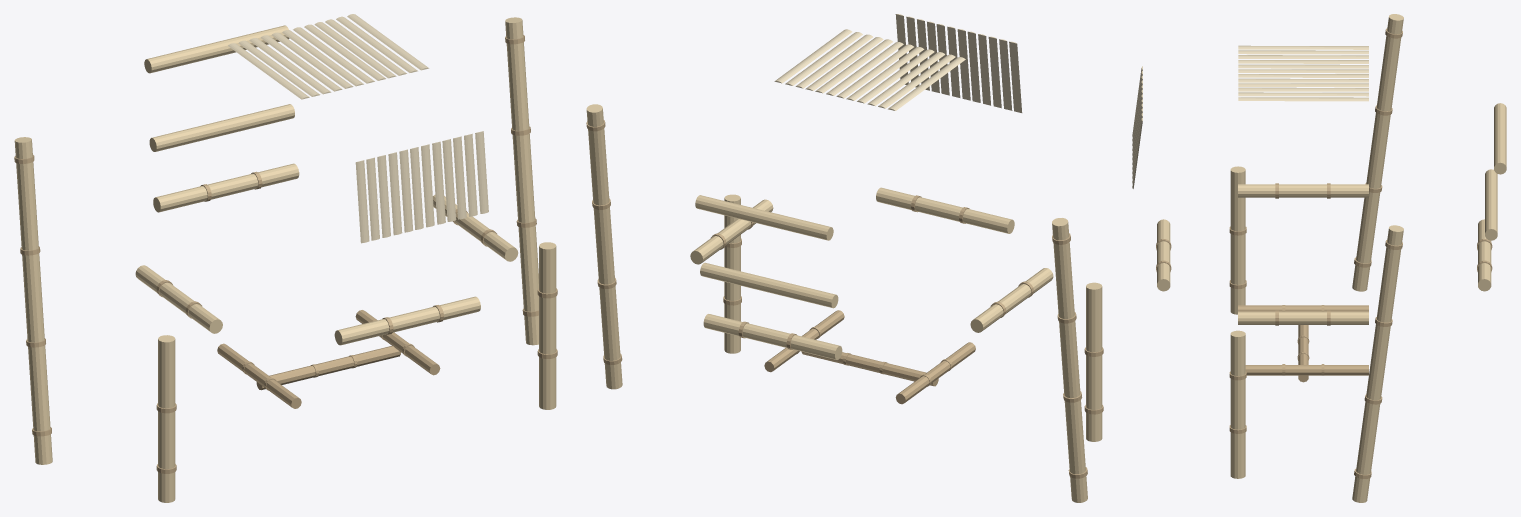
Rendered from silla.glb.
3 renders of one model, left to right at view 1: azimuth 30°, elevation 25°; view 2: azimuth 150°, elevation 25°; view 3: azimuth 270°, elevation 25°, orthographic. The views are drawn at different scales.
Parts seen in each view (by area): view 1: esterilla, esterilla.001, nudos.009, nudos.007, nudos, nudos.003, nudos.019, nudos.016, estructura.008, estructura.009, nudos.021, nudos.014 (+3 smaller); view 2: esterilla.001, esterilla, nudos.007, nudos.009, nudos, nudos.019, nudos.016, estructura.008, estructura.009, nudos.003, nudos.014, nudos.012 (+3 smaller); view 3: esterilla.001, nudos.007, nudos.009, nudos.003, nudos, nudos.012, nudos.014, estructura.011, nudos.016, nudos.024, estructura.009, estructura.008 (+3 smaller).
Part boxes in pixels (x1=…): esterilla: x1=355, y1=131, x2=488, y2=243; esterilla.001: x1=228, y1=14, x2=429, y2=99; nudos.009: x1=14, y1=137, x2=52, y2=464; nudos.007: x1=505, y1=17, x2=538, y2=345; nudos: x1=156, y1=335, x2=176, y2=502; nudos.003: x1=537, y1=242, x2=557, y2=409; nudos.019: x1=153, y1=163, x2=299, y2=212; nudos.016: x1=334, y1=296, x2=480, y2=345; estructura.008: x1=149, y1=104, x2=294, y2=151; estructura.009: x1=144, y1=25, x2=289, y2=73; nudos.021: x1=256, y1=346, x2=400, y2=390; nudos.014: x1=135, y1=265, x2=222, y2=333; esterilla.001: x1=774, y1=29, x2=965, y2=110; esterilla: x1=895, y1=14, x2=1022, y2=112; nudos.007: x1=586, y1=104, x2=622, y2=389; nudos.009: x1=1052, y1=218, x2=1087, y2=502; nudos: x1=1084, y1=282, x2=1103, y2=441; nudos.019: x1=703, y1=314, x2=842, y2=359; nudos.016: x1=876, y1=187, x2=1014, y2=233; estructura.008: x1=700, y1=262, x2=838, y2=308; estructura.009: x1=695, y1=195, x2=833, y2=240; nudos.003: x1=723, y1=194, x2=741, y2=353; nudos.014: x1=970, y1=268, x2=1053, y2=332; nudos.012: x1=690, y1=199, x2=773, y2=264; esterilla.001: x1=1238, y1=45, x2=1368, y2=101; nudos.007: x1=1352, y1=225, x2=1403, y2=502; nudos.009: x1=1352, y1=14, x2=1403, y2=291; nudos.003: x1=1229, y1=330, x2=1246, y2=478; nudos: x1=1229, y1=166, x2=1246, y2=314; nudos.012: x1=1238, y1=310, x2=1368, y2=325; nudos.014: x1=1238, y1=183, x2=1368, y2=198; estructura.011: x1=1245, y1=364, x2=1368, y2=375; nudos.016: x1=1156, y1=219, x2=1171, y2=291; nudos.024: x1=1238, y1=305, x2=1368, y2=311; estructura.009: x1=1494, y1=103, x2=1506, y2=174; estructura.008: x1=1485, y1=169, x2=1497, y2=240.
Bounding box in the file's own units: 1.49 × 1.03 × 1.08.
